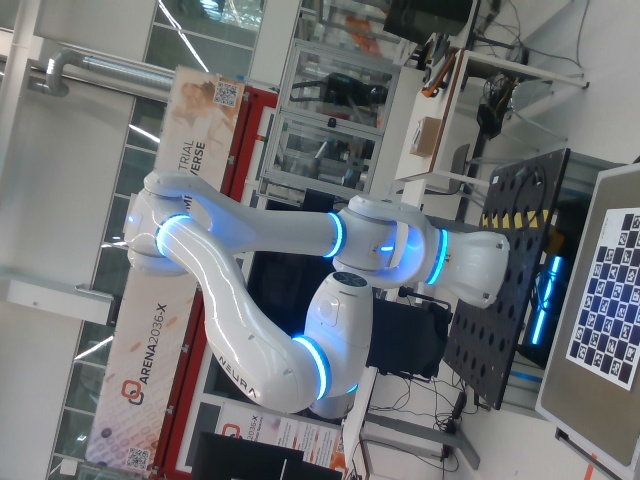Robot arm: (124, 170, 510, 419)
